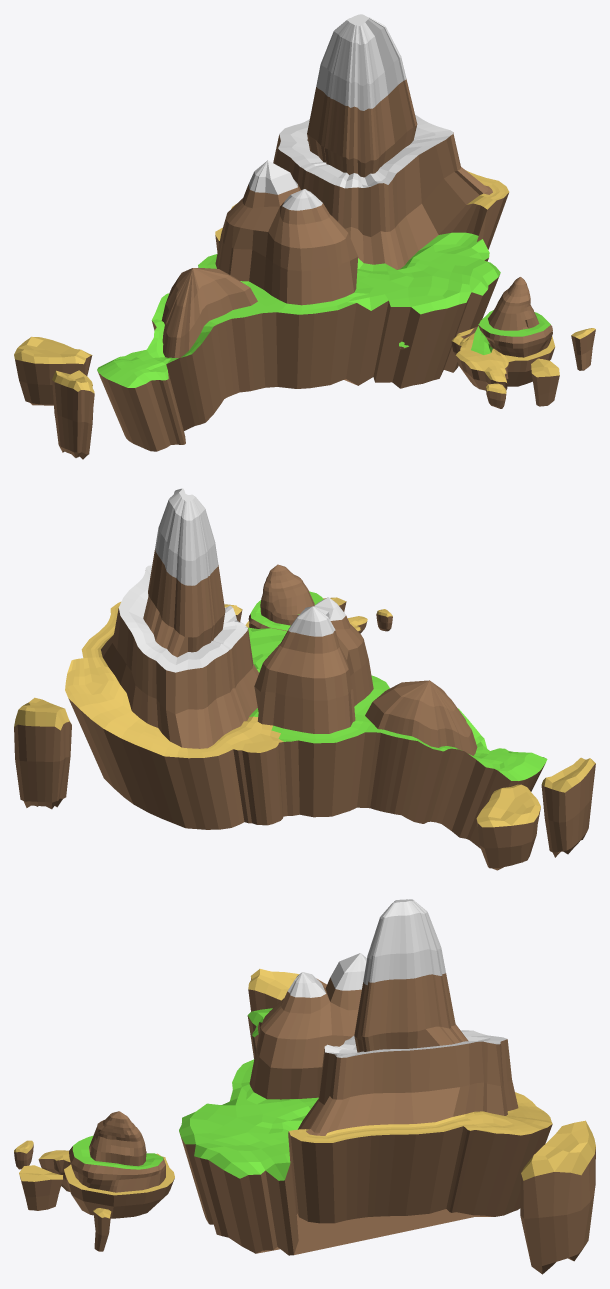
File: IslandOverview.glb
The picture shows the model from 3 angles, top to bottom: view 1: azimuth 30°, elevation 25°; view 2: azimuth 150°, elevation 25°; view 3: azimuth 270°, elevation 25°; orthographic projection. The views are drawn at different scales.
Parts seen in each view (by area): view 1: Plane-col, Start Island-col, Small Island 1.002-col, Small Island 1.001-col, Small Island 2-col, Small Island 3-col; view 2: Plane-col, Small Island 1.003-col, Small Island 1.002-col, Small Island 1.001-col, Start Island-col; view 3: Plane-col, Small Island 1.003-col, Start Island-col, Small Island 2-col, Small Island 1.001-col, Small Island 3-col.
Boxes of the visible parts, x1,y1,x2,y2 form: Plane-col: [97, 14, 509, 451]; Start Island-col: [451, 277, 555, 390]; Small Island 1.002-col: [14, 336, 92, 405]; Small Island 1.001-col: [52, 370, 94, 459]; Small Island 2-col: [531, 358, 559, 406]; Small Island 3-col: [571, 328, 595, 370]; Plane-col: [65, 488, 547, 848]; Small Island 1.003-col: [14, 697, 71, 809]; Small Island 1.002-col: [476, 784, 540, 870]; Small Island 1.001-col: [541, 757, 595, 857]; Start Island-col: [245, 564, 367, 633]; Plane-col: [179, 899, 552, 1255]; Small Island 1.003-col: [520, 1120, 595, 1274]; Start Island-col: [38, 1111, 174, 1218]; Small Island 2-col: [19, 1165, 63, 1210]; Small Island 1.001-col: [248, 969, 298, 1011]; Small Island 3-col: [93, 1208, 111, 1251].
Size of what is drawn, in the model's own units: 451 by 305 by 444.
